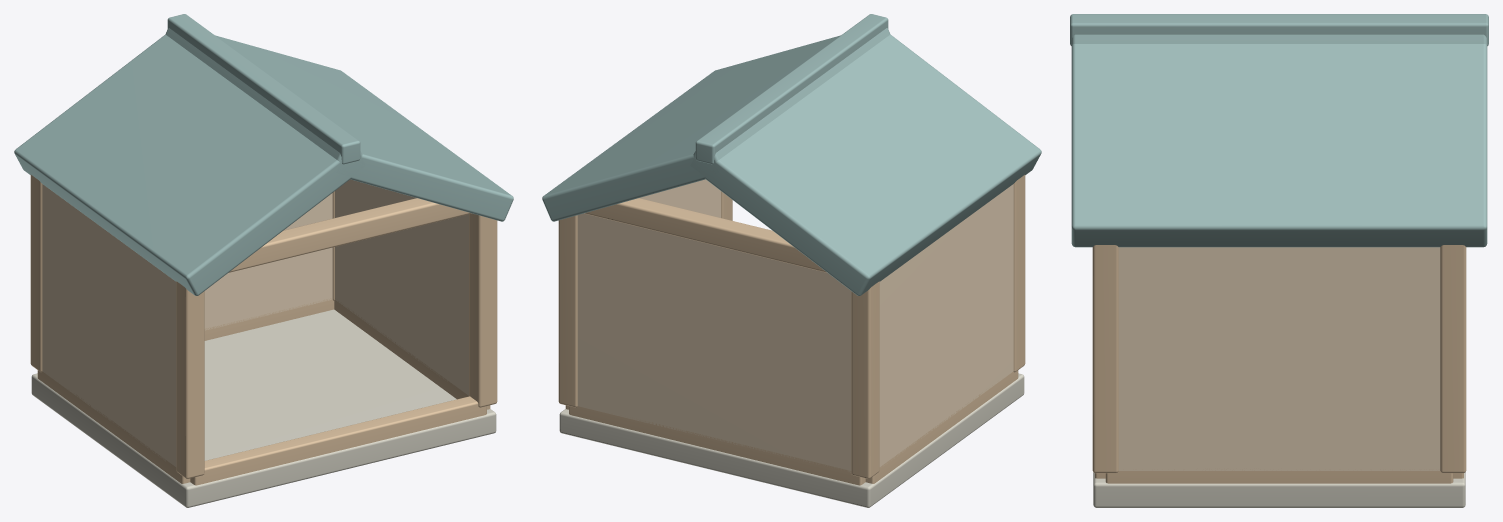
Rendered from family-home-roof.glb.
The picture shows the model from 3 angles, left to right: view 1: azimuth 30°, elevation 25°; view 2: azimuth 150°, elevation 25°; view 3: azimuth 270°, elevation 25°; orthographic projection. The views are drawn at different scales.
Visible parts, largest first — view 1: Padded roof plane.004, Rounded stone footing.006, Side panel.004, Side panel.005, Padded roof plane.005, Back panel.002, Sill beam.024, Eave beam.008, Corner post.018, Corner post.016, Ridge cap.002, Corner post.017 (+3 smaller); view 2: Back panel.002, Padded roof plane.004, Side panel.004, Padded roof plane.005, Rounded stone footing.006, Eave beam.009, Corner post.017, Ridge cap.002, Corner post.019, Sill beam.025, Corner post.016, Sill beam.026 (+1 smaller); view 3: Padded roof plane.005, Side panel.005, Rounded stone footing.006, Ridge cap.002, Corner post.018, Corner post.019, Sill beam.027, Padded roof plane.004.
Part boxes in pixels (left/top/right/bottom): Padded roof plane.004: left=14, top=34, right=365, bottom=295; Rounded stone footing.006: left=31, top=309, right=496, bottom=507; Side panel.004: left=42, top=184, right=176, bottom=466; Side panel.005: left=335, top=179, right=468, bottom=395; Padded roof plane.005: left=165, top=28, right=513, bottom=221; Back panel.002: left=204, top=193, right=332, bottom=330; Sill beam.024: left=190, top=396, right=486, bottom=485; Eave beam.008: left=228, top=198, right=471, bottom=272; Corner post.018: left=469, top=213, right=497, bottom=407; Corner post.016: left=176, top=281, right=204, bottom=478; Ridge cap.002: left=167, top=14, right=360, bottom=164; Corner post.017: left=30, top=175, right=42, bottom=372; Back panel.002: left=577, top=213, right=851, bottom=472; Padded roof plane.004: left=690, top=34, right=1041, bottom=295; Side panel.004: left=879, top=184, right=1013, bottom=466; Padded roof plane.005: left=542, top=28, right=890, bottom=221; Rounded stone footing.006: left=559, top=373, right=1024, bottom=507; Eave beam.009: left=584, top=198, right=827, bottom=272; Corner post.017: left=851, top=281, right=879, bottom=478; Ridge cap.002: left=695, top=14, right=888, bottom=164; Corner post.019: left=558, top=215, right=577, bottom=407; Sill beam.025: left=569, top=406, right=865, bottom=485; Corner post.016: left=1013, top=175, right=1025, bottom=372; Sill beam.026: left=865, top=370, right=1018, bottom=483; Padded roof plane.005: left=1071, top=44, right=1487, bottom=247; Side panel.005: left=1118, top=247, right=1440, bottom=470; Rounded stone footing.006: left=1093, top=472, right=1465, bottom=507; Ridge cap.002: left=1070, top=14, right=1488, bottom=45; Corner post.018: left=1092, top=245, right=1118, bottom=473; Corner post.019: left=1440, top=245, right=1466, bottom=473; Sill beam.027: left=1105, top=469, right=1453, bottom=483; Padded roof plane.004: left=1071, top=34, right=1487, bottom=44.
Bounding box in the file's own units: 2.91 × 2.84 × 2.7.
